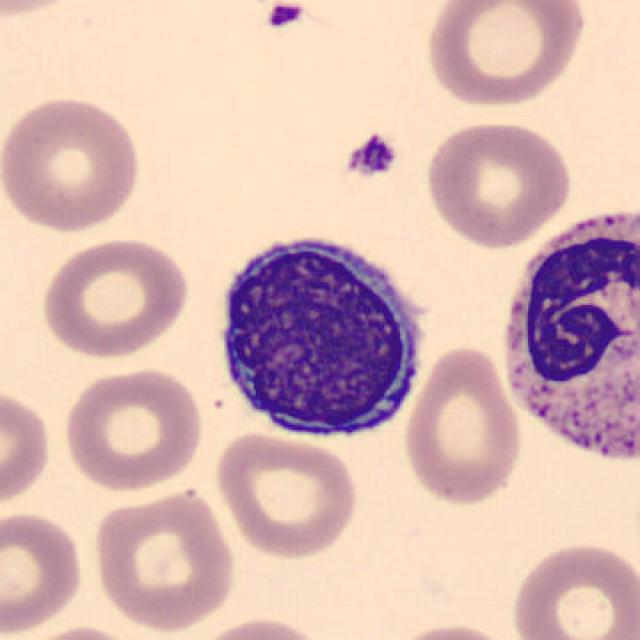Lymphocyte: (206, 220, 436, 450)
Neutrophil: (487, 198, 640, 483)
Platelets: (341, 130, 400, 182), (262, 2, 308, 33)
RBC: (89, 486, 240, 634), (400, 342, 526, 510), (0, 92, 146, 236), (421, 117, 576, 250), (35, 233, 194, 361), (212, 428, 362, 560), (59, 363, 206, 494), (422, 0, 590, 111), (506, 537, 638, 640), (0, 506, 90, 635), (0, 383, 55, 513), (188, 613, 334, 640), (381, 619, 526, 640), (0, 0, 92, 21)
